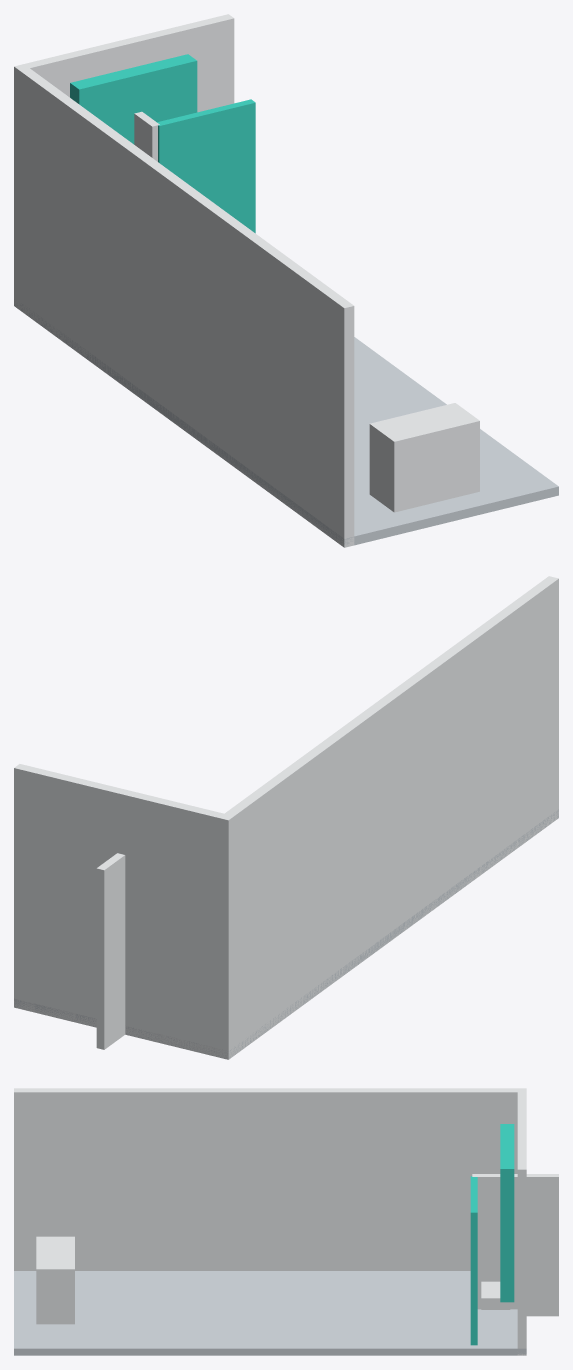
3 views of the same model, one above another, from view 1: azimuth 30°, elevation 25°; view 2: azimuth 150°, elevation 25°; view 3: azimuth 270°, elevation 25° (orthographic). The views are drawn at different scales.
Visible parts, largest first — view 1: Exhibition Booth Concept; view 2: Exhibition Booth Concept; view 3: Exhibition Booth Concept.
Boxes of the visible parts, box(x1,y1,x2,y2) form: Exhibition Booth Concept: box(14, 14, 558, 547); Exhibition Booth Concept: box(14, 576, 558, 1059); Exhibition Booth Concept: box(14, 1088, 558, 1355).
Size of the model in its own units: 3 by 3.2 by 8.51.
